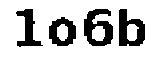1: (11, 6, 45, 49)
6: (79, 4, 115, 50)
b: (117, 6, 148, 49)
o: (49, 15, 78, 48)
